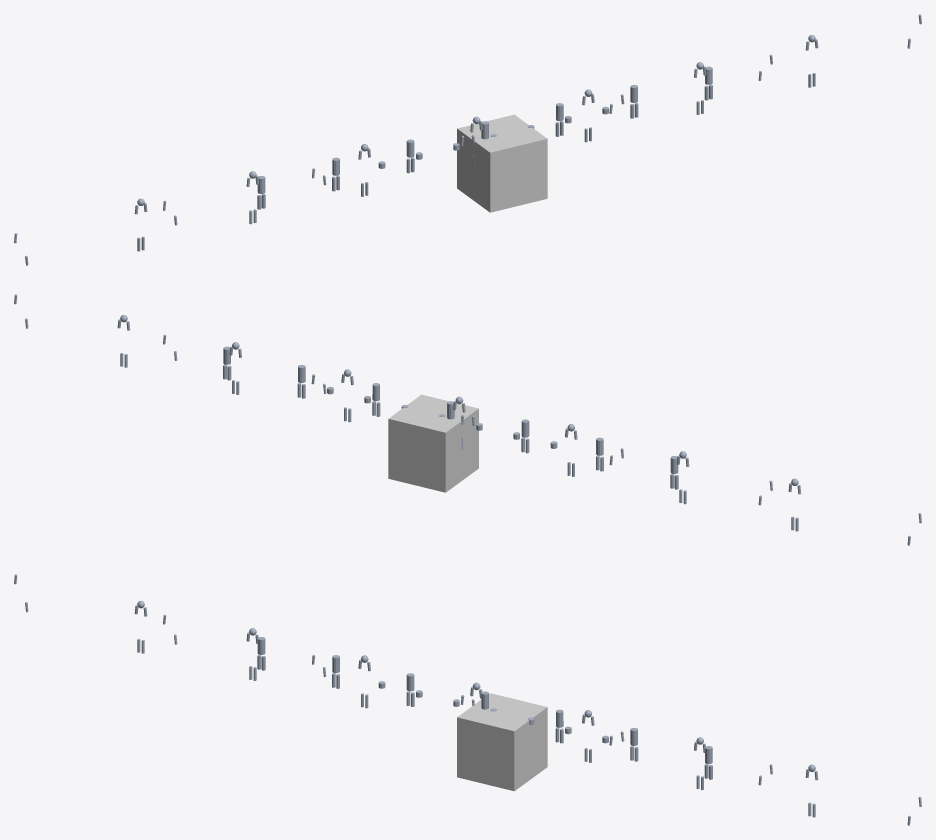
File: etiquette_actions.glb
3 renders of one model, top to bottom at view 1: azimuth 30°, elevation 25°; view 2: azimuth 150°, elevation 25°; view 3: azimuth 330°, elevation 25°, orthographic.
Parts seen in each view (by area): view 1: Cube; view 2: Cube; view 3: Cube.
Part boxes in pixels (x1,y1,x2,y2): Cube: (457, 114, 547, 212); Cube: (388, 394, 478, 492); Cube: (457, 693, 547, 791).
Size of the model in its own units: 31.65 by 2.76 by 2.
